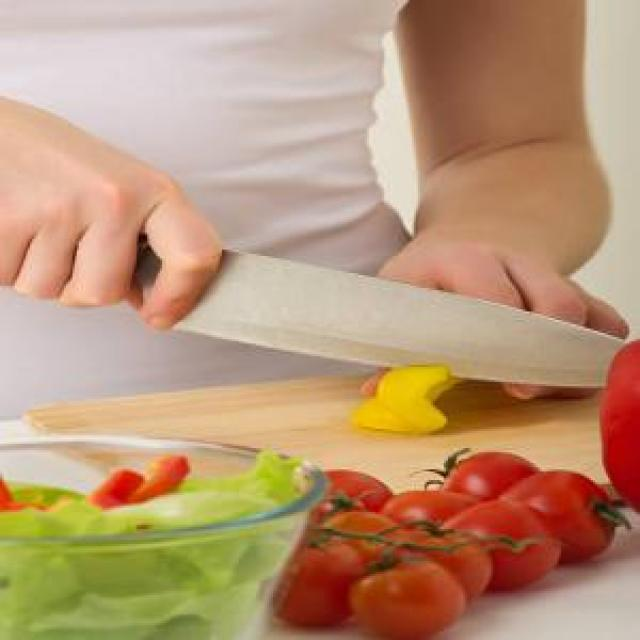knife: (0, 226, 638, 391)
